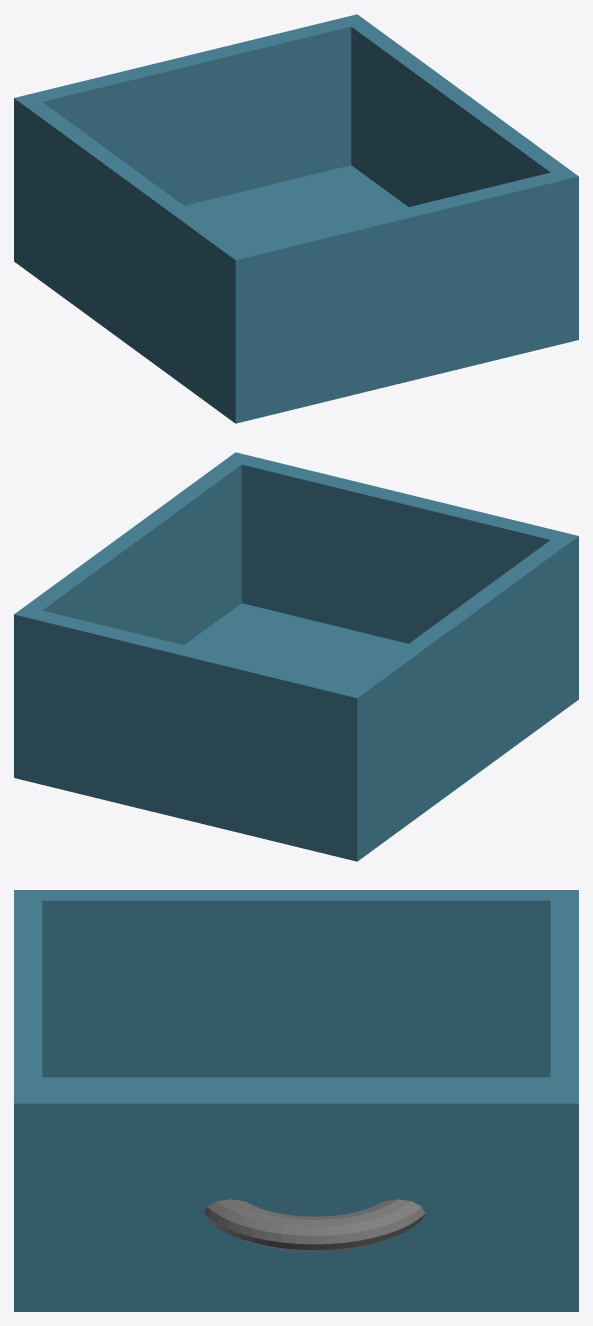
The model's file is MiddleDrawerFinal.fbx.
The picture shows the model from 3 angles, top to bottom: view 1: azimuth 30°, elevation 25°; view 2: azimuth 150°, elevation 25°; view 3: azimuth 270°, elevation 25°; orthographic projection. The views are drawn at different scales.
Parts seen in each view (by area): view 1: DrawerMiddle; view 2: DrawerMiddle; view 3: DrawerMiddle.
Part boxes in pixels (x1,y1,x2,y2): DrawerMiddle: [14, 14, 578, 423]; DrawerMiddle: [14, 452, 578, 861]; DrawerMiddle: [14, 890, 578, 1311].
Bounding box in the file's own units: 82.65 × 32.87 × 80.77.
